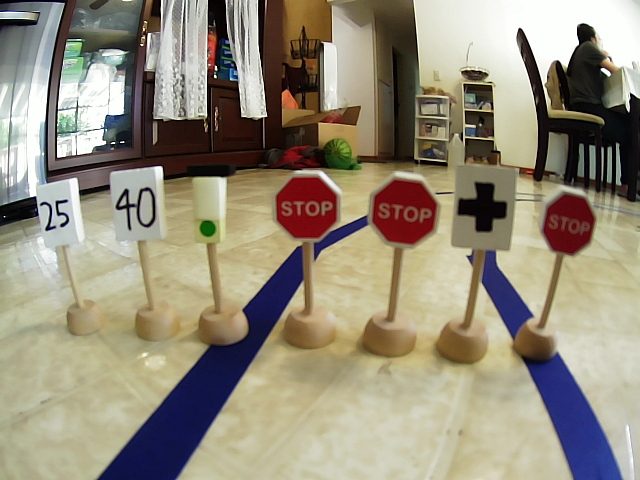25: (34, 177, 87, 245)
40: (108, 164, 169, 244)
green: (185, 164, 237, 246)
plus: (450, 163, 518, 251)
stop: (362, 169, 444, 258), (267, 168, 348, 247), (538, 185, 598, 260)
